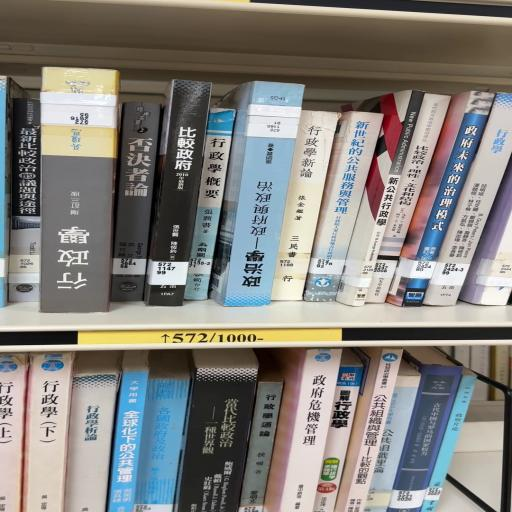reverse: (210, 82, 305, 308), (40, 68, 120, 314)
